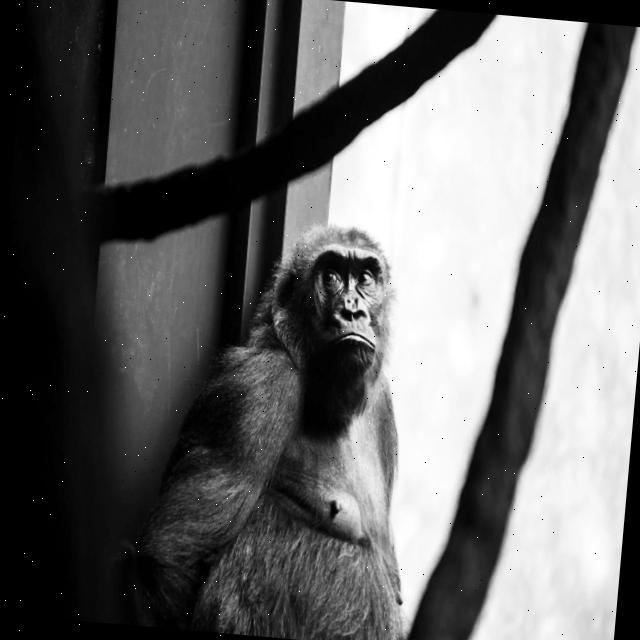Gorilla: (106, 206, 441, 640)
